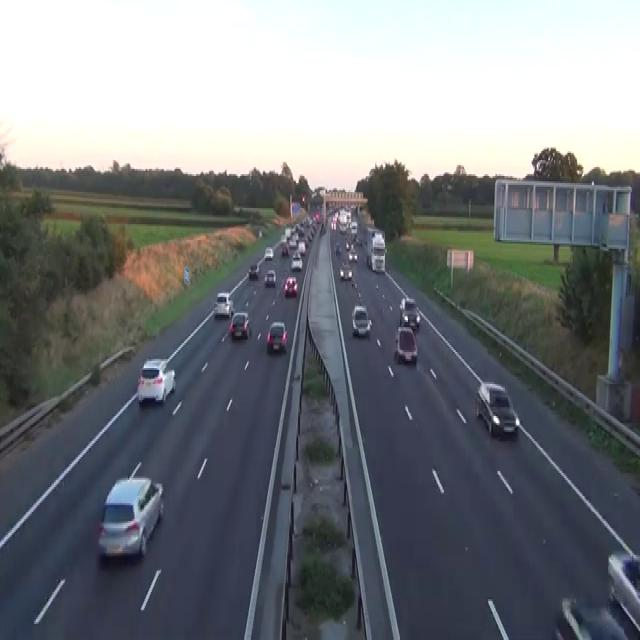Car: (554, 550, 639, 638), (97, 462, 164, 560), (555, 596, 629, 638), (607, 549, 639, 635), (474, 380, 520, 438), (137, 358, 175, 406), (555, 598, 593, 638), (394, 326, 417, 364), (399, 297, 420, 331), (266, 320, 287, 352), (351, 304, 372, 336), (229, 311, 249, 340), (213, 292, 234, 318), (371, 249, 385, 272), (284, 275, 297, 297), (339, 261, 352, 279), (264, 268, 276, 286), (291, 251, 302, 270), (248, 263, 259, 279), (264, 246, 273, 260), (348, 247, 357, 261), (350, 220, 357, 237), (297, 240, 305, 254), (334, 240, 341, 254), (281, 244, 289, 256), (441, 182, 453, 190), (319, 222, 326, 235), (288, 237, 297, 247), (285, 226, 292, 238), (355, 234, 362, 243), (314, 212, 320, 222), (330, 219, 336, 229), (280, 233, 286, 243), (345, 240, 350, 251), (301, 194, 306, 204), (258, 228, 262, 238)
Truck: (364, 228, 386, 272)
